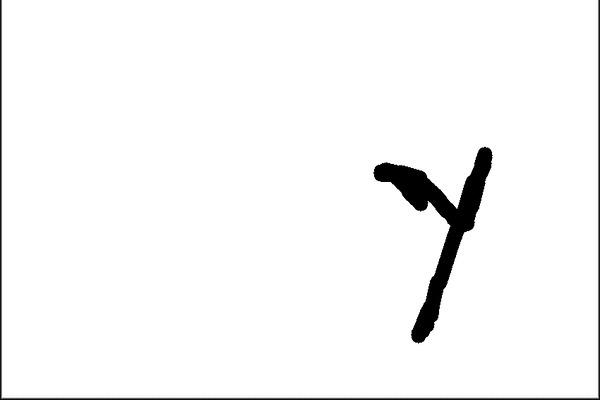Y: (362, 143, 496, 349)
